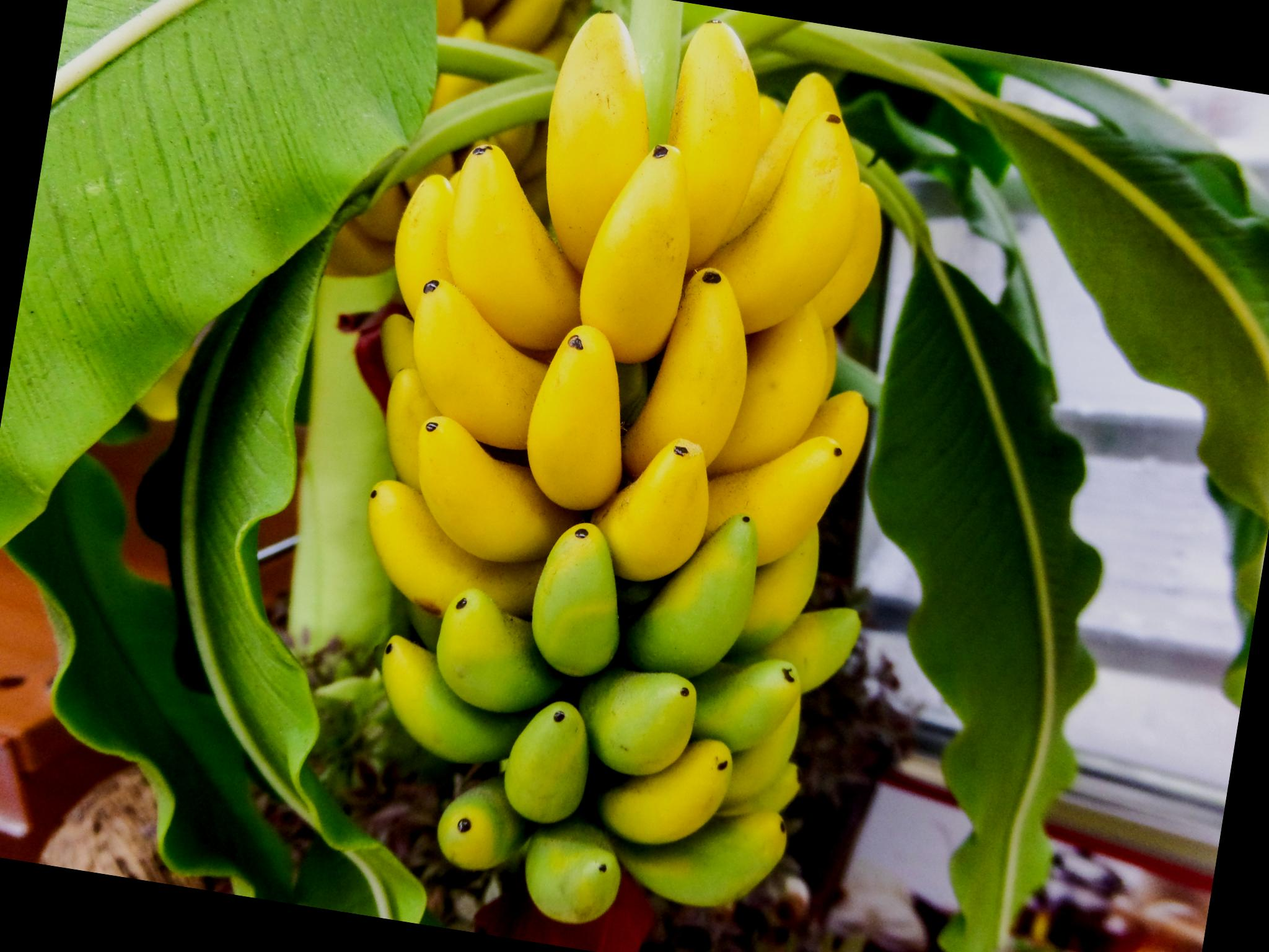Banana Ripe: (304, 0, 936, 947)
